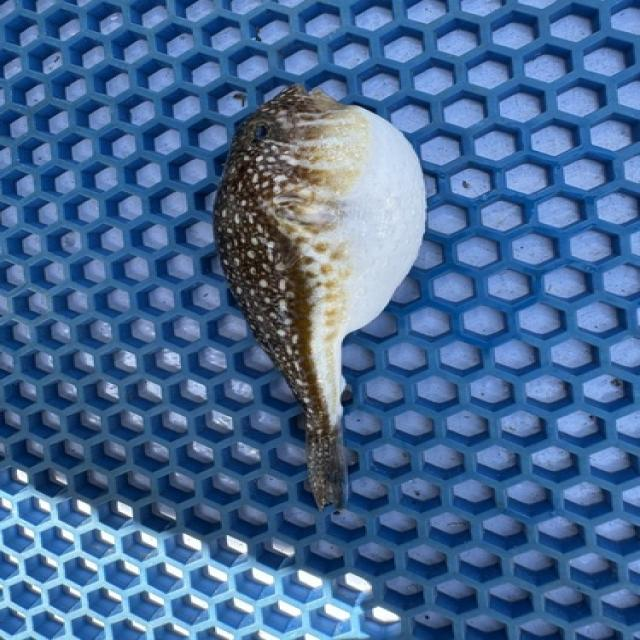Balik: (214, 86, 426, 509)
